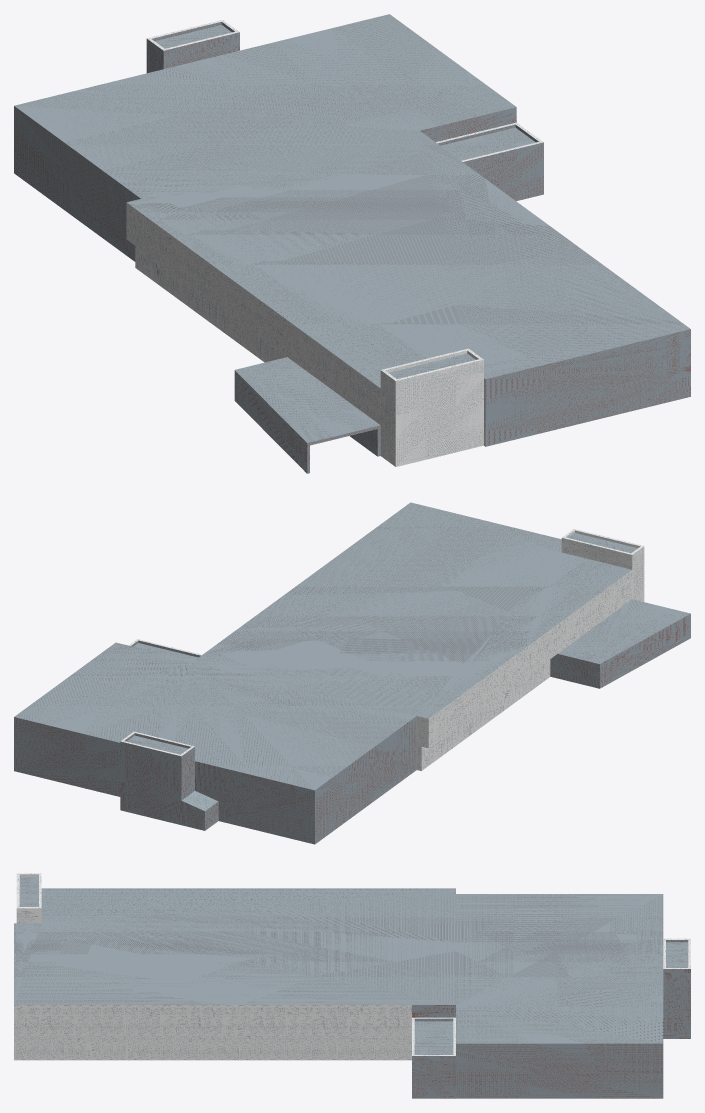
Rendered from Library Textured.fbx.
3 renders of one model, top to bottom at view 1: azimuth 30°, elevation 25°; view 2: azimuth 150°, elevation 25°; view 3: azimuth 270°, elevation 25°, orthographic. The views are drawn at different scales.
Parts seen in each view (by area): view 1: Model; view 2: Model; view 3: Model.
Boxes of the visible parts, left/top/right/bottom form: Model: left=14, top=14, right=690, bottom=473; Model: left=14, top=502, right=690, bottom=844; Model: left=14, top=873, right=690, bottom=1098.
Bounding box in the file's own units: 1896 × 336 × 2940.
